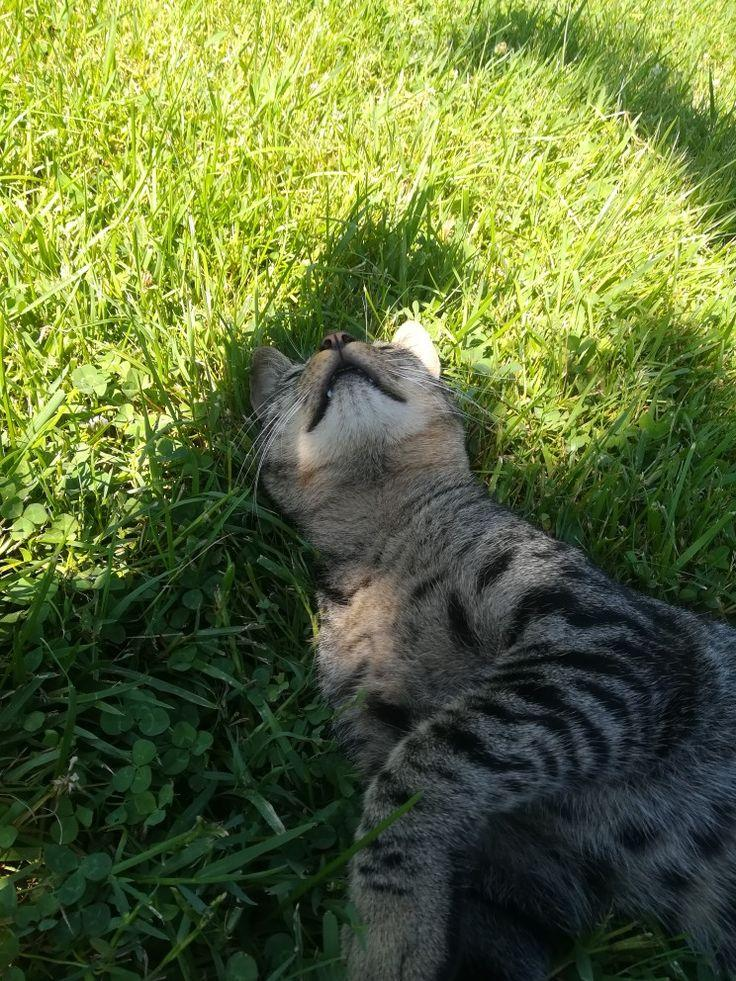kedo: (245, 318, 736, 981)
